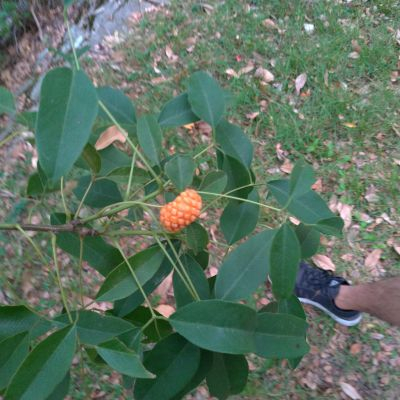eggs: (155, 187, 207, 232)
